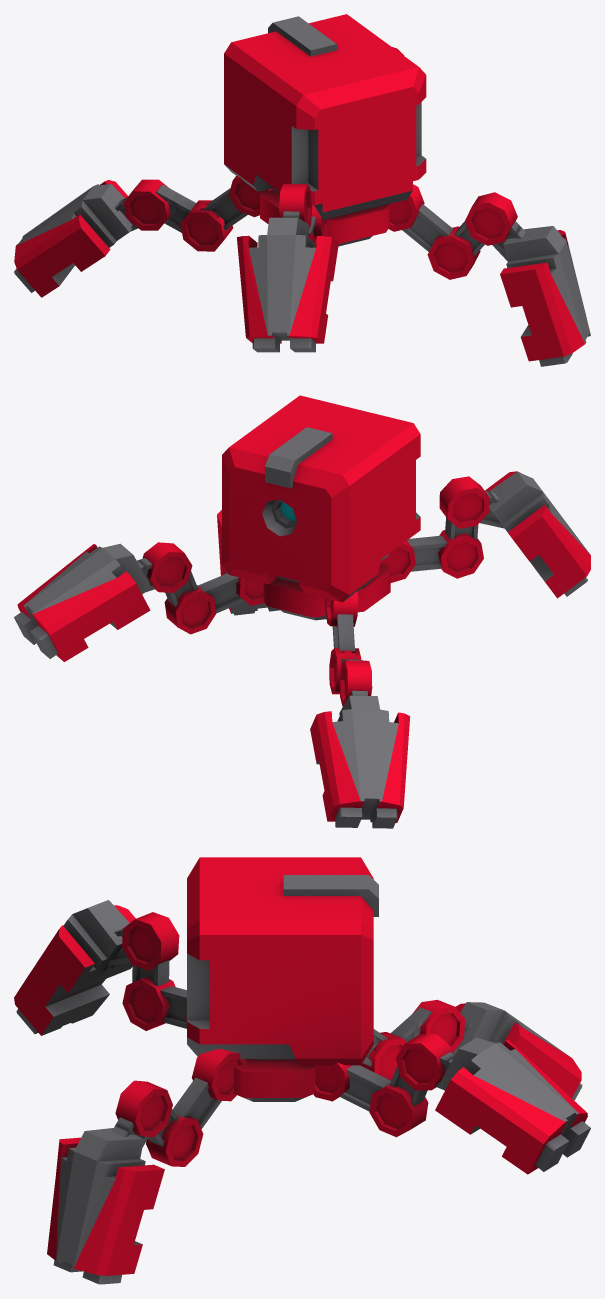
Rendered from Monster1_Move14.obj.
3 views of the same model, one above another, from view 1: azimuth 30°, elevation 25°; view 2: azimuth 150°, elevation 25°; view 3: azimuth 270°, elevation 25° (orthographic). The views are drawn at different scales.
Visible parts, largest first — view 1: Box006, Object021, Object017, Object025, Object027, Object020, Object018, Object019, Object028, Object026, Object024; view 2: Box006, Object025, Object013, Object021, Object024, Object016, Object015, Object023, Object022, Object014, Object026, Object028 (+2 smaller); view 3: Box006, Object017, Object013, Object021, Object025, Object018, Object024, Object020, Object015, Object023, Object016, Object014 (+4 smaller).
Part boxes in pixels (bbox=[...]): Box006: bbox=[224, 14, 426, 246]; Object021: bbox=[236, 217, 338, 352]; Object017: bbox=[500, 226, 590, 366]; Object025: bbox=[14, 180, 132, 297]; Object027: bbox=[156, 184, 232, 251]; Object020: bbox=[465, 192, 525, 261]; Object018: bbox=[388, 184, 453, 251]; Object019: bbox=[427, 221, 484, 279]; Object028: bbox=[115, 179, 170, 231]; Object026: bbox=[204, 176, 273, 230]; Object024: bbox=[279, 184, 312, 229]; Box006: bbox=[222, 395, 420, 620]; Object025: bbox=[310, 695, 410, 828]; Object013: bbox=[14, 543, 151, 661]; Object021: bbox=[485, 471, 590, 598]; Object024: bbox=[439, 476, 504, 528]; Object016: bbox=[137, 542, 192, 592]; Object015: bbox=[164, 571, 216, 634]; Object023: bbox=[438, 517, 483, 578]; Object022: bbox=[380, 535, 447, 582]; Object014: bbox=[197, 573, 264, 613]; Object026: bbox=[325, 591, 358, 650]; Object028: bbox=[339, 660, 372, 706]; Box006: bbox=[187, 857, 378, 1101]; Object017: bbox=[47, 1128, 164, 1284]; Object013: bbox=[435, 1037, 590, 1174]; Object021: bbox=[14, 900, 135, 1035]; Object025: bbox=[453, 1002, 582, 1100]; Object018: bbox=[172, 1048, 246, 1128]; Object024: bbox=[107, 912, 179, 970]; Object020: bbox=[112, 1080, 172, 1147]; Object015: bbox=[369, 1065, 428, 1137]; Object023: bbox=[122, 960, 175, 1030]; Object016: bbox=[396, 1034, 455, 1090]; Object014: bbox=[311, 1062, 390, 1111].
Size of the model in its own units: 158 by 109 by 182.
